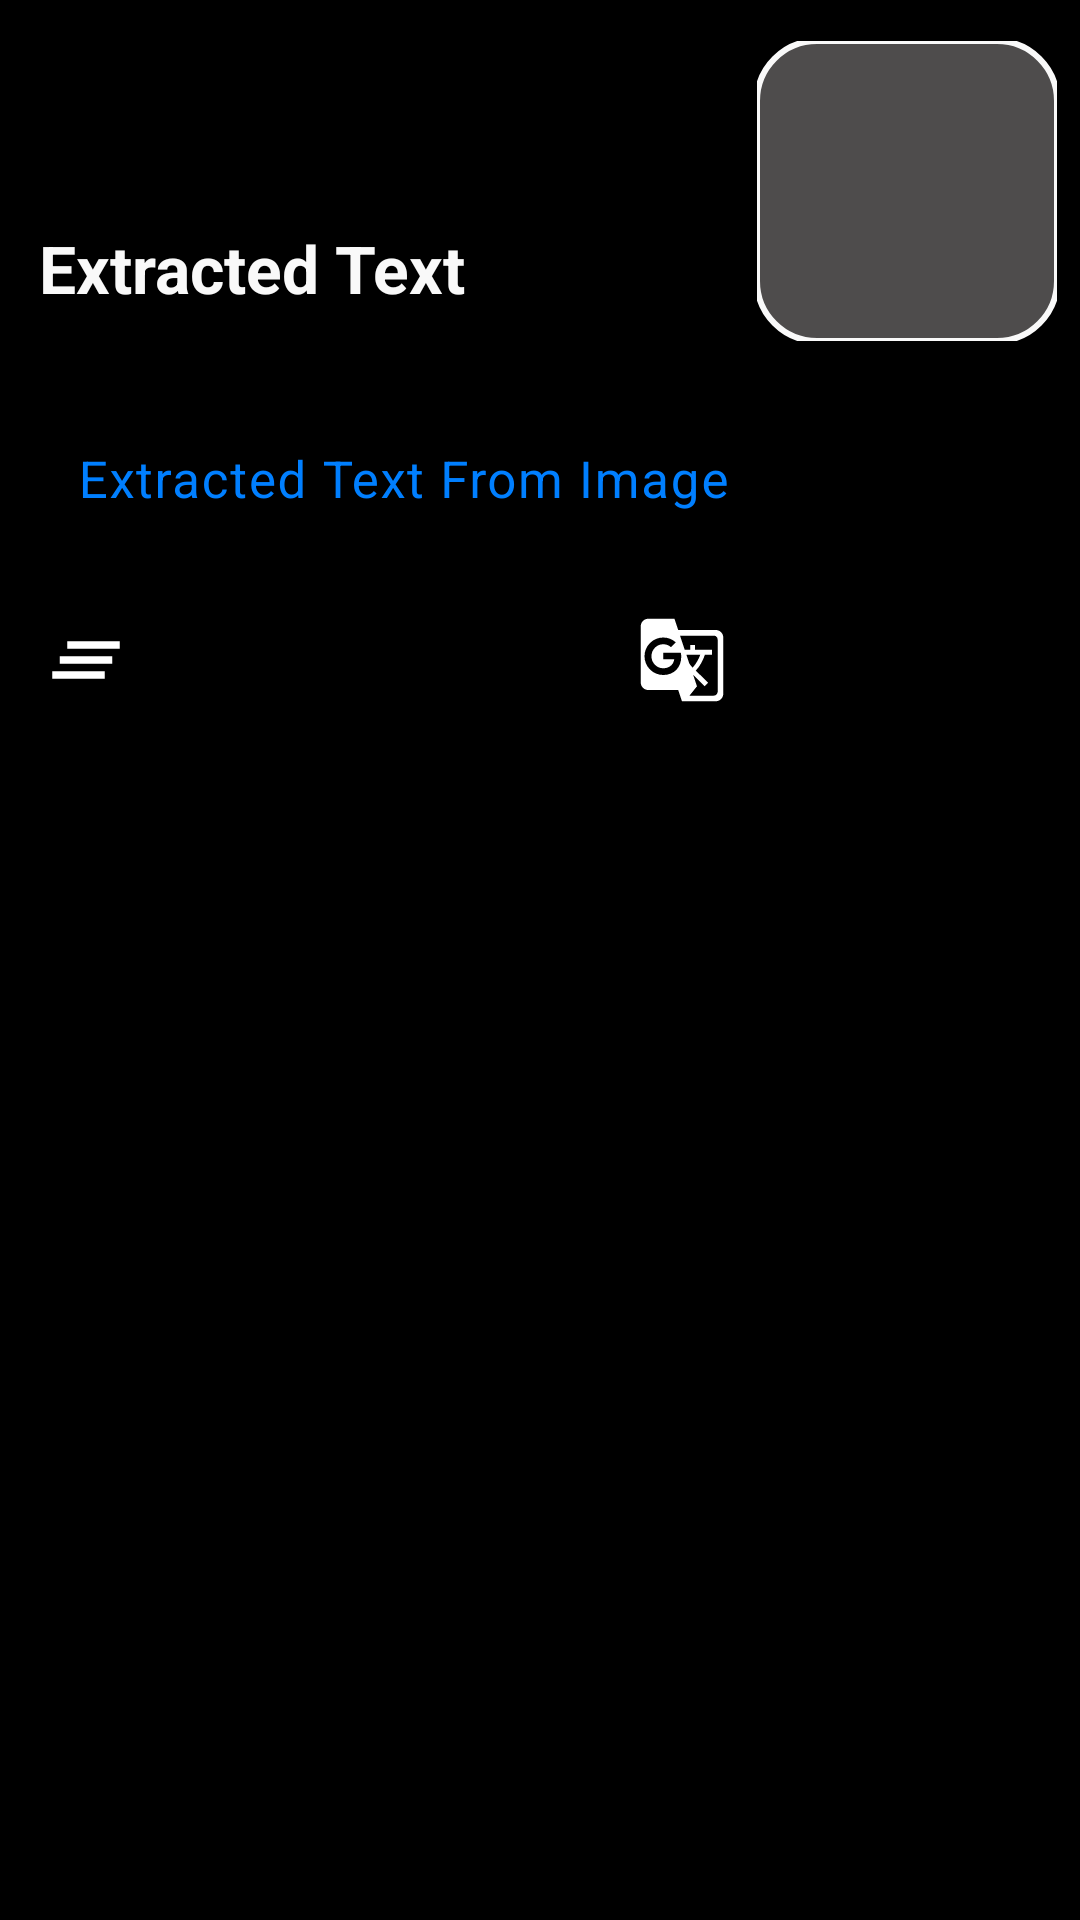

Icon click points for this 1080 x 1920 phone screenshot, format point (x, y):
clear all: point (86, 660)
